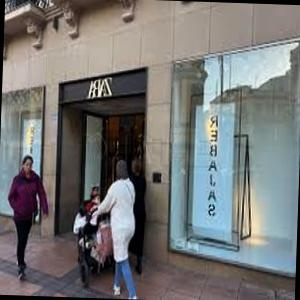zara: (79, 37, 161, 111)
